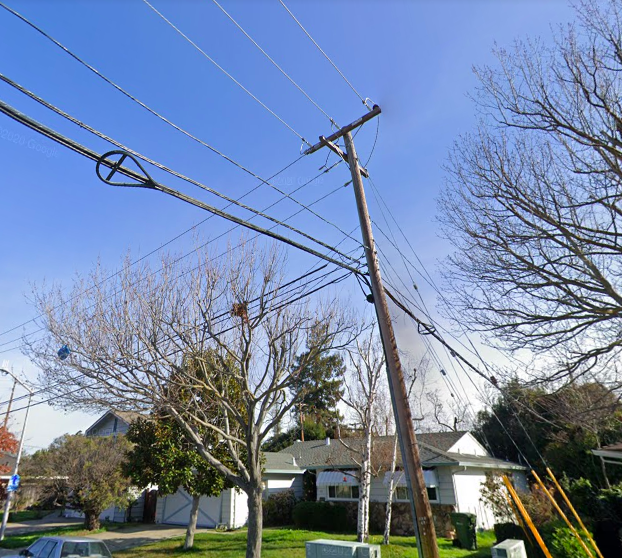utility_pole: (296, 95, 384, 183)
